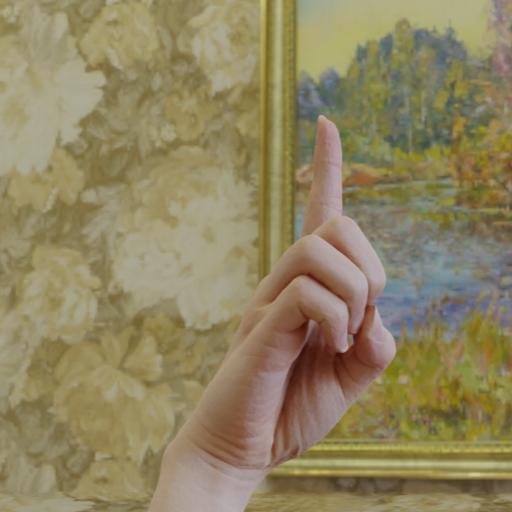D: (191, 104, 420, 484)
